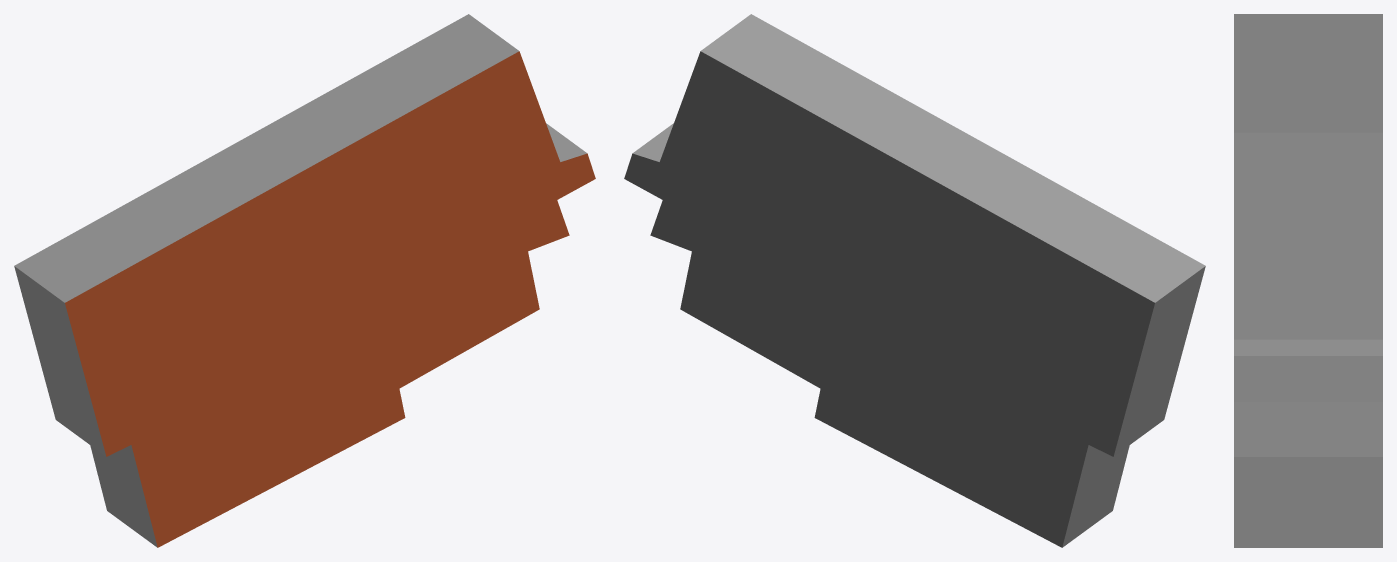
Rendered from construction_0364_assumed_A_Casa_h6m.obj.
3 views of the same model, side by side, from view 1: azimuth 30°, elevation 25°; view 2: azimuth 150°, elevation 25°; view 3: azimuth 270°, elevation 25° (orthographic). The views are drawn at different scales.
Parts seen in each view (by area): view 1: construction_0364_assumed_A_Casa; view 2: construction_0364_assumed_A_Casa; view 3: construction_0364_assumed_A_Casa.
Boxes of the visible parts, x1,y1,x2,y2 form: construction_0364_assumed_A_Casa: [14, 14, 595, 547]; construction_0364_assumed_A_Casa: [624, 14, 1205, 547]; construction_0364_assumed_A_Casa: [1234, 14, 1382, 547].
Size of the model in its own units: 36.26 by 26.66 by 6.
